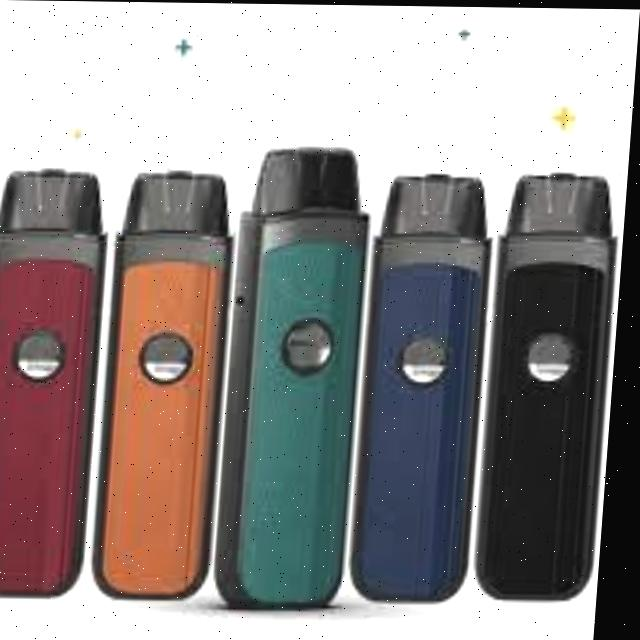vape: (223, 146, 378, 608), (482, 167, 626, 603), (357, 171, 500, 605), (101, 172, 243, 600), (0, 170, 117, 597)
